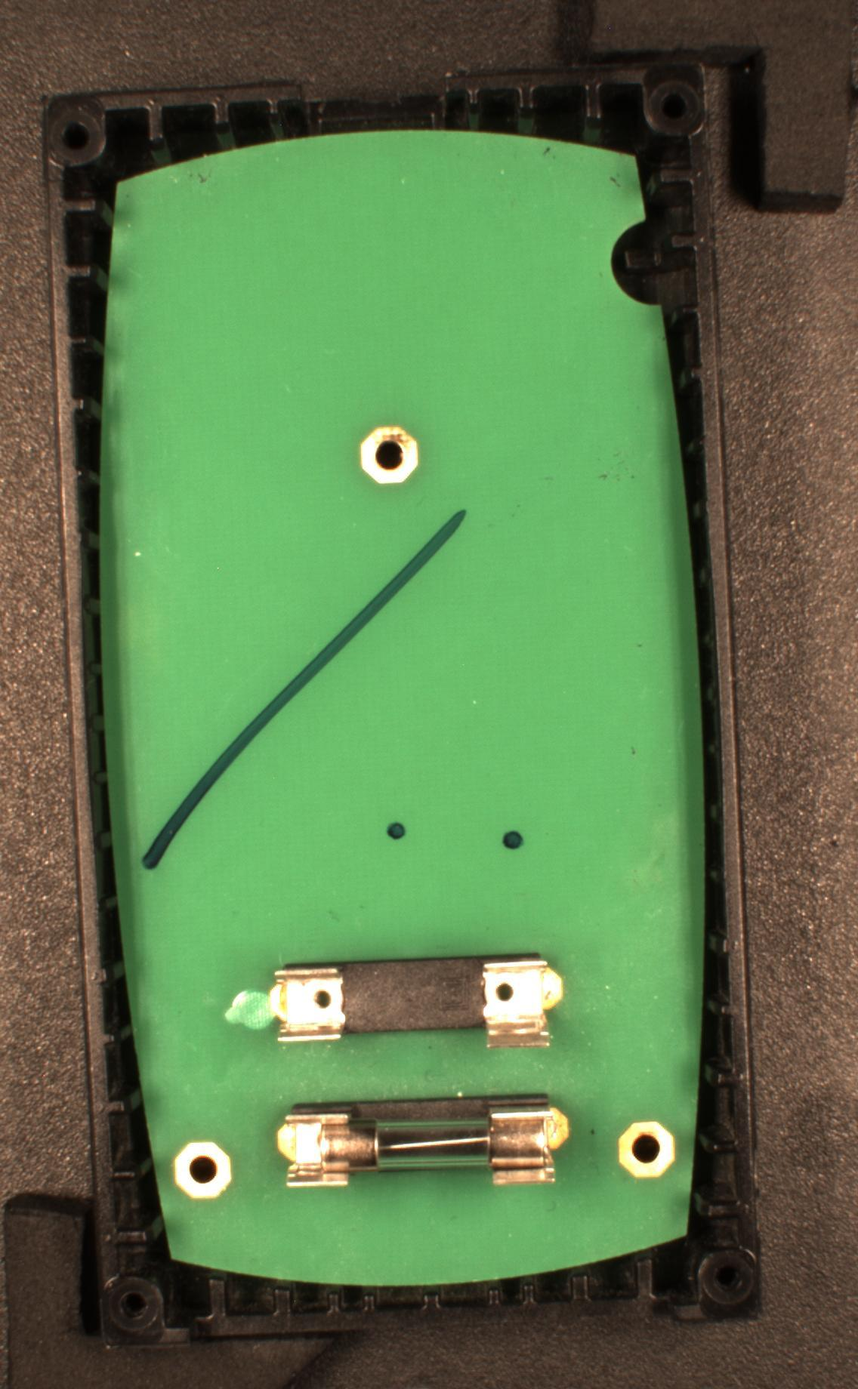Linijsko Ostecene: (139, 507, 468, 874)
Nepostojanje osiguraca: (266, 949, 566, 1049)
Tockasto Ostecenje: (499, 827, 530, 853), (384, 817, 408, 846)
